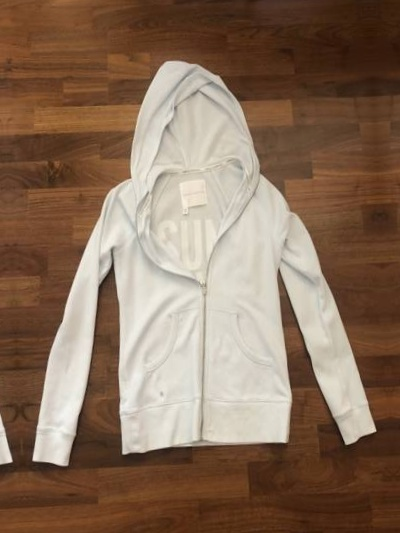Hoodie: (8, 48, 391, 488), (374, 29, 400, 469), (0, 68, 16, 508)
